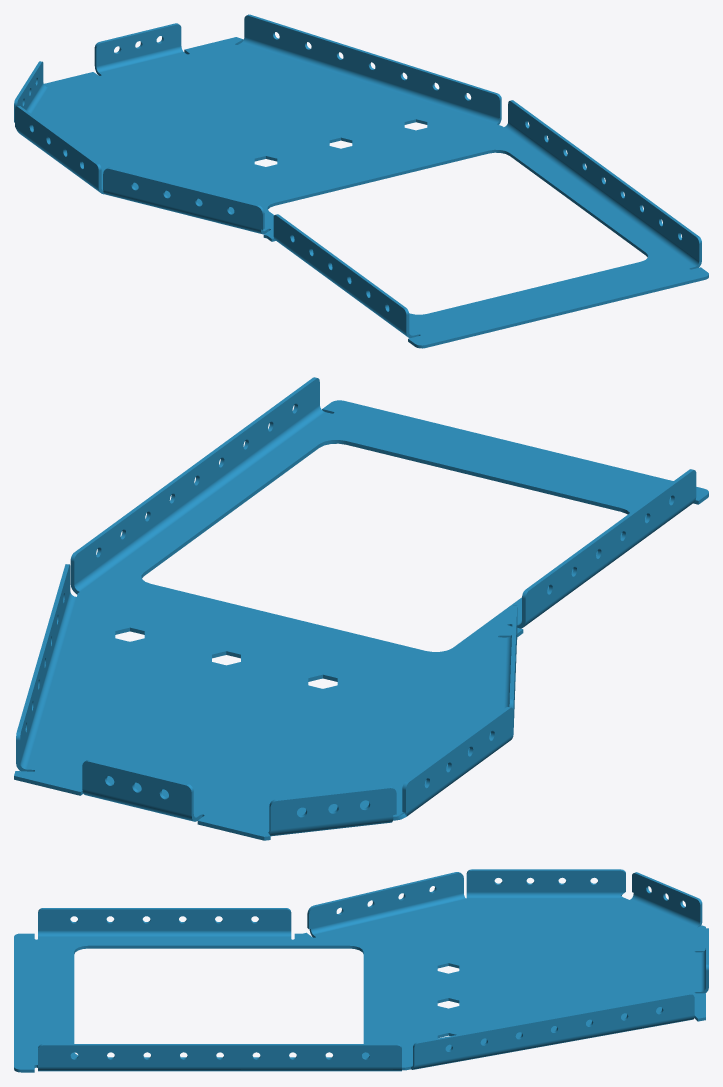
3 renders of one model, top to bottom at view 1: azimuth 30°, elevation 25°; view 2: azimuth 150°, elevation 25°; view 3: azimuth 270°, elevation 25°, orthographic. The views are drawn at different scales.
Visible parts, largest first — view 1: mesh8987, mesh8967, mesh8976, mesh8839, mesh8960, mesh8915, mesh8908, mesh8953, mesh8926, mesh8938, mesh8845, mesh9010 (+4 smaller); view 2: mesh8987, mesh8976, mesh8960, mesh8886, mesh8953, mesh8909, mesh8926, mesh8915, mesh8967, mesh8990, mesh8929, mesh8946 (+3 smaller); view 3: mesh8987, mesh8977, mesh8968, mesh8959, mesh8954, mesh8831, mesh8925, mesh8947, mesh8887, mesh8914, mesh8843, mesh8858 (+5 smaller).
Boxes of the visible parts, bbox=[...] form: mesh8987: bbox=[31, 37, 708, 345]; mesh8967: bbox=[244, 15, 499, 117]; mesh8976: bbox=[508, 101, 699, 260]; mesh8839: bbox=[103, 169, 262, 229]; mesh8960: bbox=[273, 215, 406, 332]; mesh8915: bbox=[241, 37, 499, 124]; mesh8908: bbox=[96, 24, 181, 66]; mesh8953: bbox=[15, 106, 98, 187]; mesh8926: bbox=[504, 122, 698, 266]; mesh8938: bbox=[425, 277, 705, 347]; mesh8845: bbox=[103, 189, 262, 234]; mesh9010: bbox=[275, 150, 488, 205]; mesh8987: bbox=[14, 400, 708, 836]; mesh8976: bbox=[74, 378, 319, 584]; mesh8960: bbox=[525, 470, 696, 621]; mesh8886: bbox=[270, 788, 396, 830]; mesh8953: bbox=[406, 707, 513, 812]; mesh8909: bbox=[82, 761, 191, 815]; mesh8926: bbox=[74, 405, 324, 591]; mesh8915: bbox=[20, 591, 76, 769]; mesh8967: bbox=[20, 564, 70, 761]; mesh8990: bbox=[346, 441, 621, 511]; mesh8929: bbox=[74, 378, 315, 553]; mesh8946: bbox=[523, 497, 696, 627]; mesh8987: bbox=[14, 898, 705, 1069]; mesh8977: bbox=[38, 1045, 401, 1066]; mesh8968: bbox=[414, 994, 694, 1065]; mesh8959: bbox=[38, 909, 291, 930]; mesh8954: bbox=[466, 870, 625, 891]; mesh8831: bbox=[309, 873, 463, 929]; mesh8925: bbox=[38, 1066, 401, 1071]; mesh8947: bbox=[38, 930, 291, 936]; mesh8887: bbox=[632, 873, 700, 921]; mesh8914: bbox=[413, 1015, 694, 1069]; mesh8843: bbox=[311, 893, 465, 934]; mesh8858: bbox=[466, 892, 625, 898].
Size of the model in its own units: 0.1727 by 0.013 by 0.2883.
